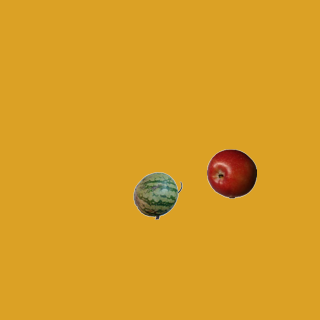Apple Braeburn: (206, 148, 256, 198)
Watermelon: (132, 170, 182, 220)
